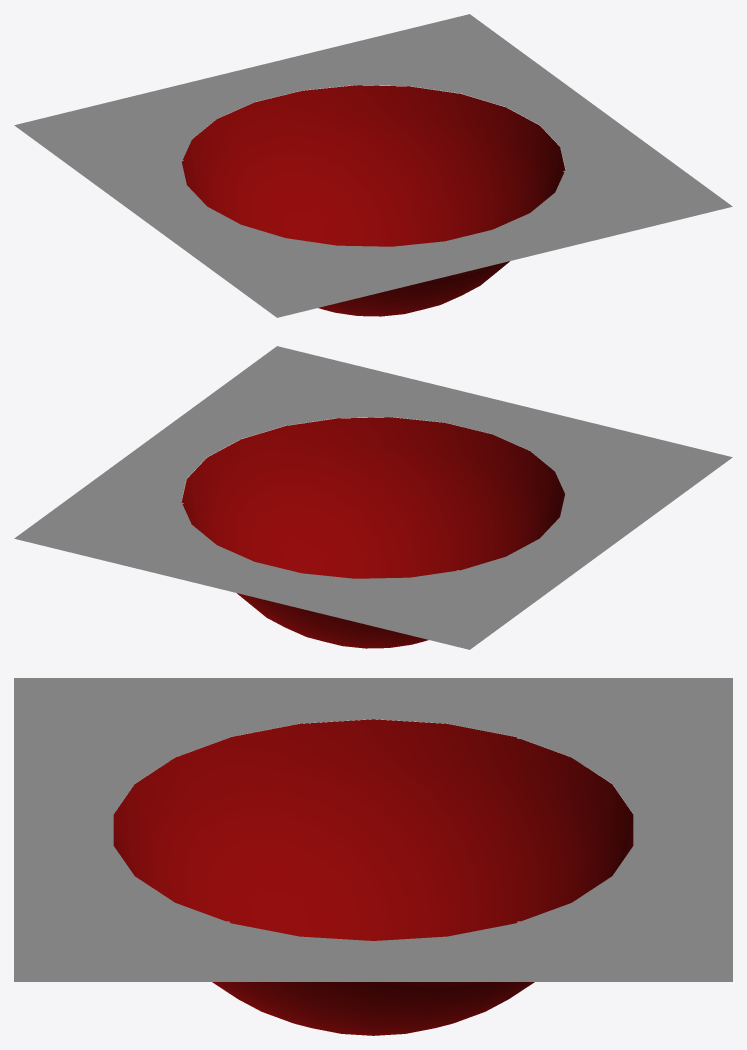
File: Field.fbx
3 views of the same model, one above another, from view 1: azimuth 30°, elevation 25°; view 2: azimuth 150°, elevation 25°; view 3: azimuth 270°, elevation 25° (orthographic). The views are drawn at different scales.
Visible parts, largest first — view 1: field, sphere; view 2: field, sphere; view 3: field, sphere.
Boxes of the visible parts, box(x1,y1,x2,y2) form: field: box(14, 14, 732, 317); sphere: box(182, 85, 565, 316); field: box(14, 346, 732, 649); sphere: box(181, 417, 564, 648); field: box(14, 678, 732, 981); sphere: box(113, 719, 633, 1035).
Bounding box in the file's own units: 10 × 2.77 × 10.
